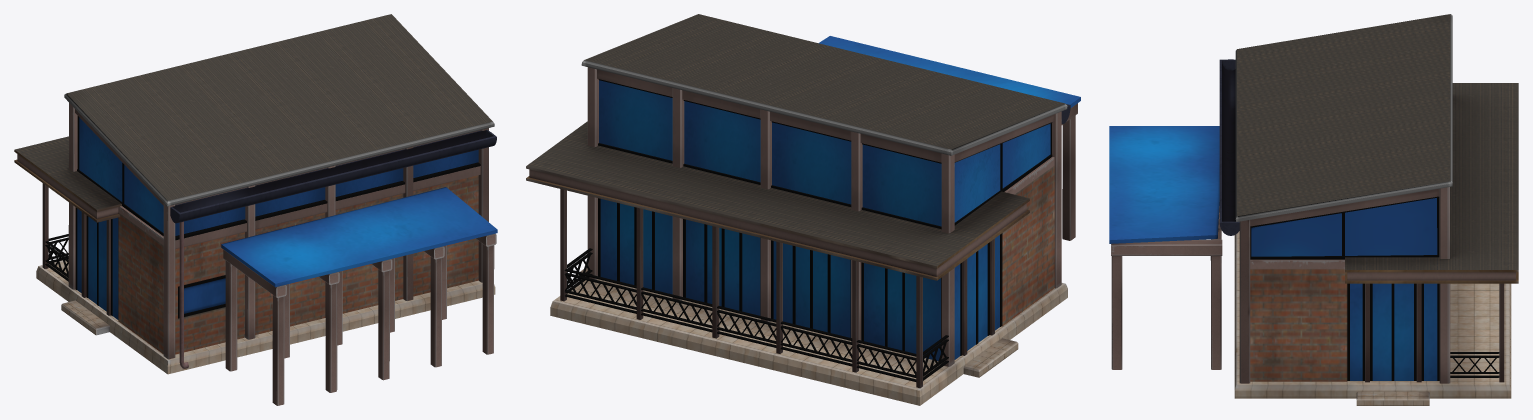
Rendered from ParkHouse02.fbx.
The picture shows the model from 3 angles, left to right: view 1: azimuth 30°, elevation 25°; view 2: azimuth 150°, elevation 25°; view 3: azimuth 270°, elevation 25°; orthographic projection. The views are drawn at different scales.
Parts seen in each view (by area): view 1: ParkHouse02; view 2: ParkHouse02; view 3: ParkHouse02.
Boxes of the visible parts, <box> form: ParkHouse02: <box>14,14,497,405</box>; ParkHouse02: <box>526,14,1080,405</box>; ParkHouse02: <box>1109,14,1518,405</box>.
Bounding box in the file's own units: 750 × 408 × 693.
